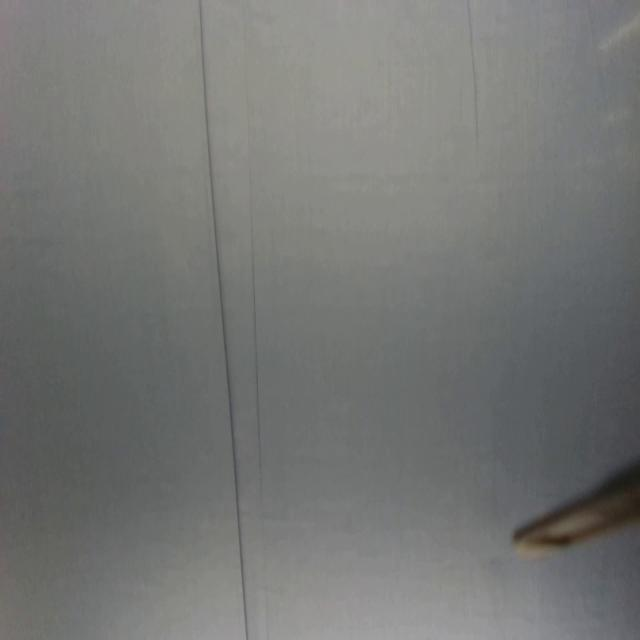crease: (198, 0, 249, 640), (250, 235, 264, 504), (466, 0, 480, 146)
